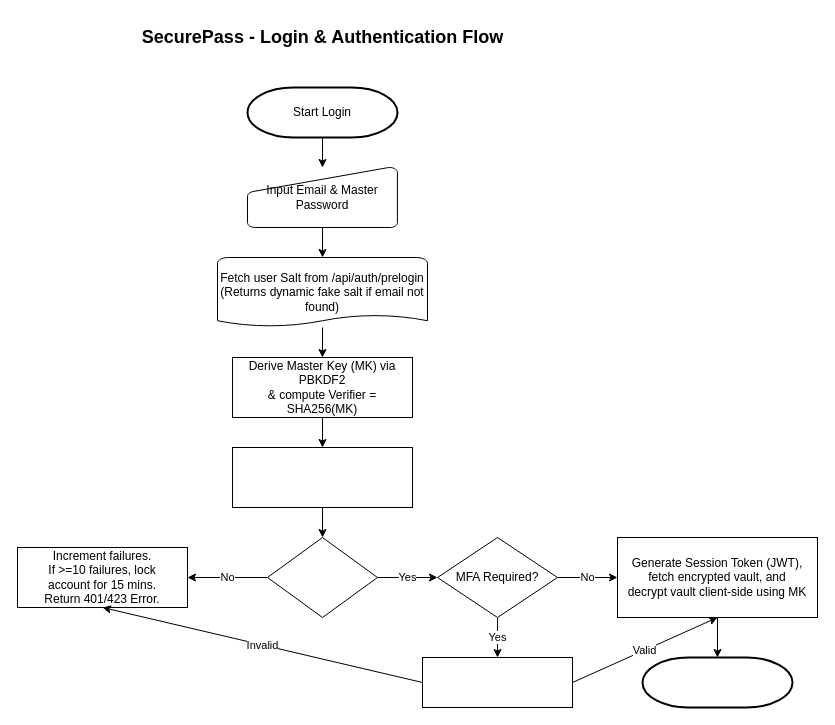
This 835x725 diagram has some shape labels left out. The centre of each missing label's shape, as x and y in pixels:
Credentials Valid?: point 322,577
End (Dashboard Loaded): point 717,682
POST verifier to /api/auth/login & check rate limit & lock status: point 322,477
Prompt user for TOTP code & verify on server: point 497,682
